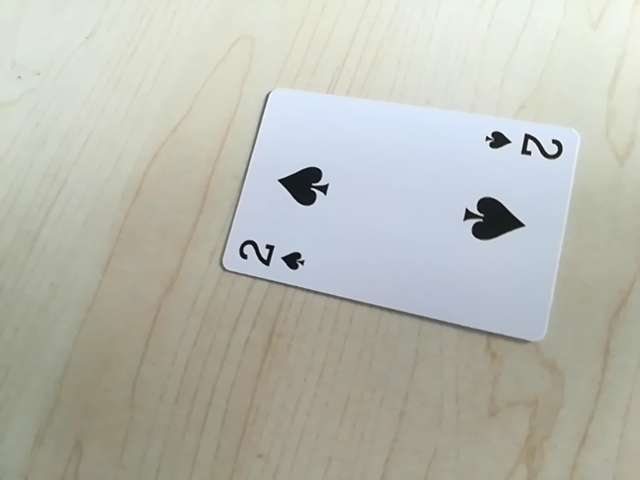ht 2: (479, 124, 568, 166), (230, 233, 314, 276)
